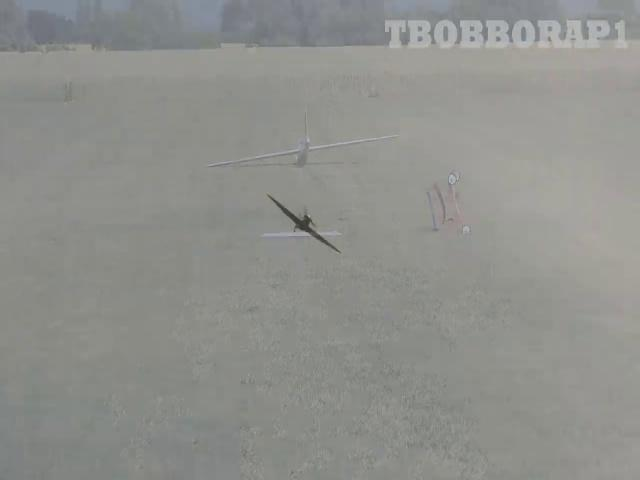Airplane: (266, 193, 341, 253)
